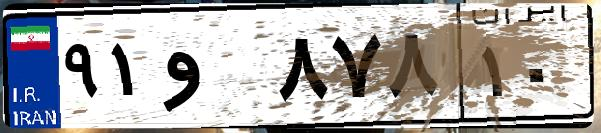0: (525, 38, 570, 115)
1: (475, 38, 525, 113), (110, 28, 158, 98)
7: (330, 28, 385, 110)
8: (270, 28, 330, 110), (385, 28, 445, 110)
9: (57, 26, 110, 100)
و: (158, 20, 270, 120)
